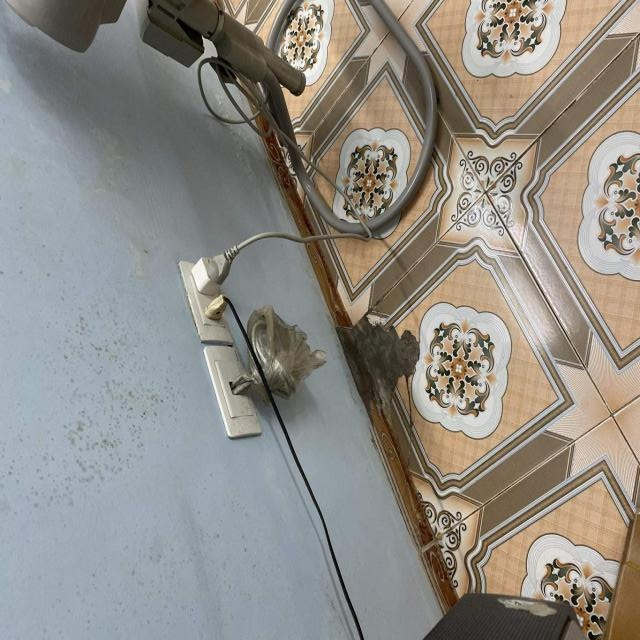outlet: (203, 345, 262, 439), (178, 259, 234, 344)
